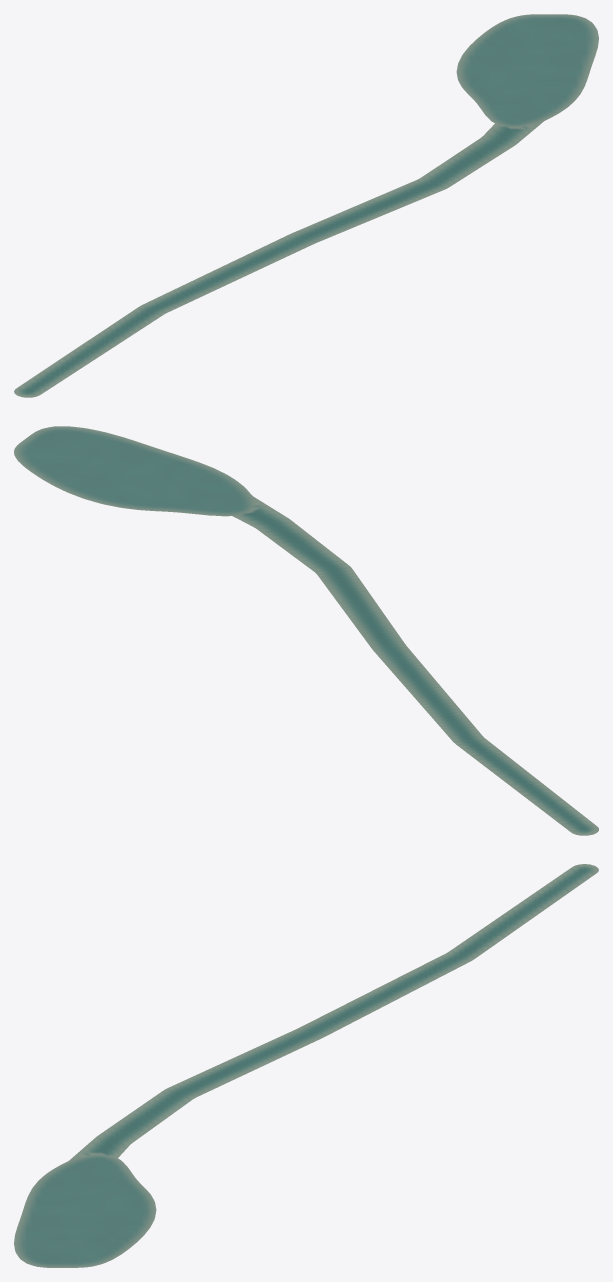
File: SM_BM_BC_Lake.glb
3 views of the same model, one above another, from view 1: azimuth 90°, elevation 25°; view 2: azimuth 150°, elevation 25°; view 3: azimuth 270°, elevation 25° (orthographic). The views are drawn at different scales.
Visible parts, largest first — view 1: SM_BM_BC_Lake; view 2: SM_BM_BC_Lake; view 3: SM_BM_BC_Lake.
Part boxes in pixels (x1=…): SM_BM_BC_Lake: x1=14, y1=14, x2=598, y2=397; SM_BM_BC_Lake: x1=14, y1=426, x2=598, y2=835; SM_BM_BC_Lake: x1=14, y1=864, x2=598, y2=1267.
Bounding box in the file's own units: 748 × 9 × 469.
